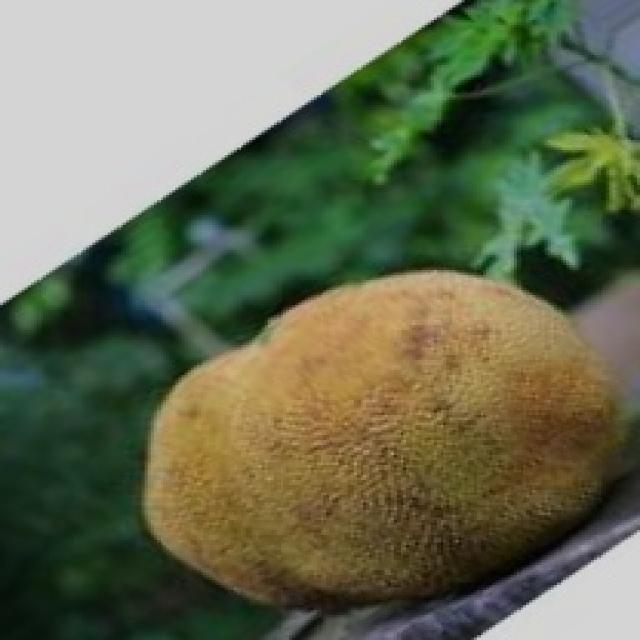Fruit: (237, 230, 640, 640)
